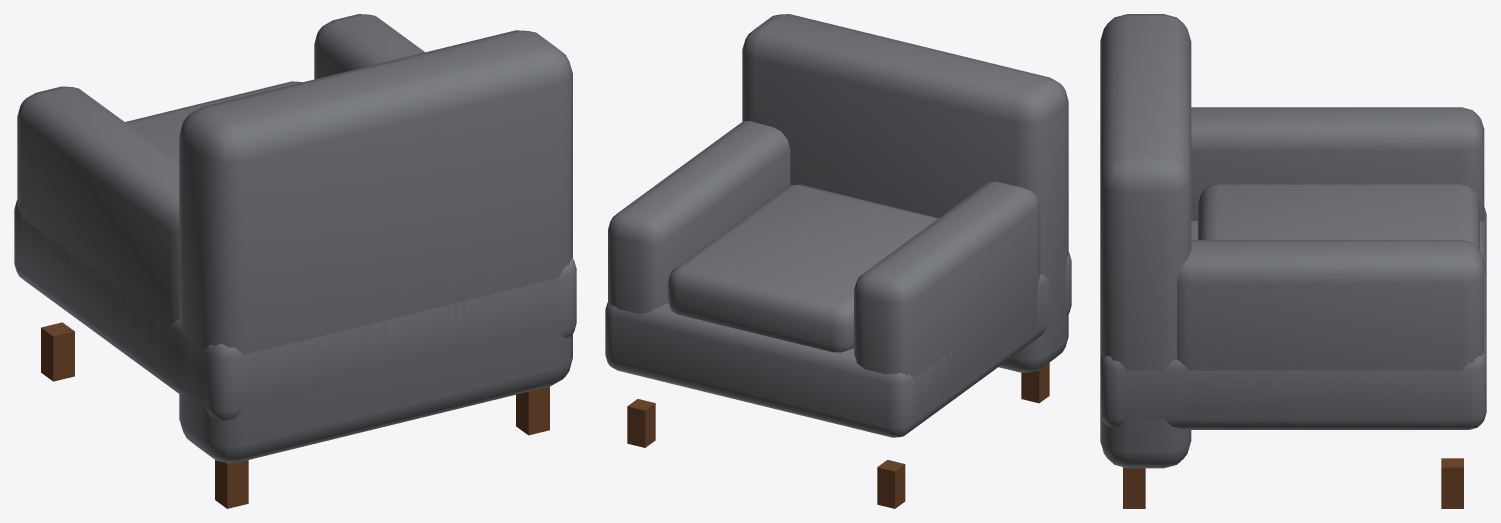
The model's file is furniture.seat.armchair.glb.
The picture shows the model from 3 angles, left to right: view 1: azimuth 30°, elevation 25°; view 2: azimuth 150°, elevation 25°; view 3: azimuth 270°, elevation 25°; orthographic projection. The views are drawn at different scales.
Parts seen in each view (by area): view 1: main__fabric_grey, main__hardwood; view 2: main__fabric_grey, main__hardwood; view 3: main__fabric_grey, main__hardwood.
Part boxes in pixels (left/top/right/bottom): main__fabric_grey: left=14, top=14, right=576, bottom=462; main__hardwood: left=41, top=322, right=549, bottom=508; main__fabric_grey: left=605, top=14, right=1071, bottom=437; main__hardwood: left=627, top=362, right=1049, bottom=508; main__fabric_grey: left=1100, top=14, right=1486, bottom=468; main__hardwood: left=1123, top=458, right=1463, bottom=508.
Size of the model in its own units: 0.85 by 0.85 by 0.85.
